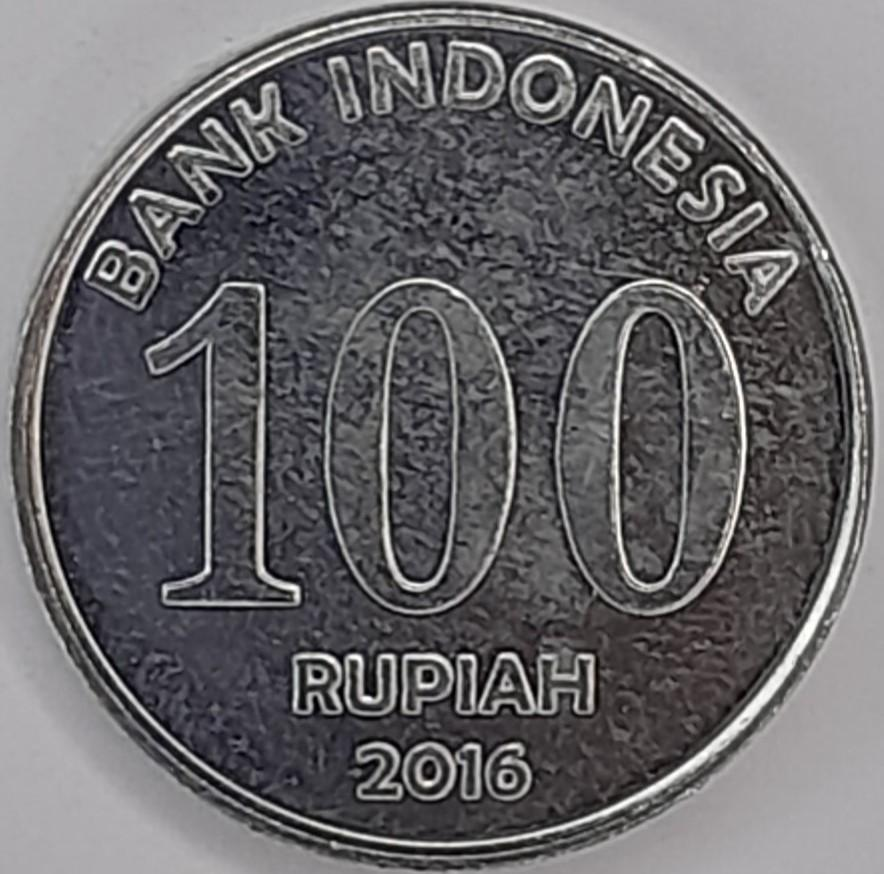coin_100_e2016: (4, 0, 880, 872)
